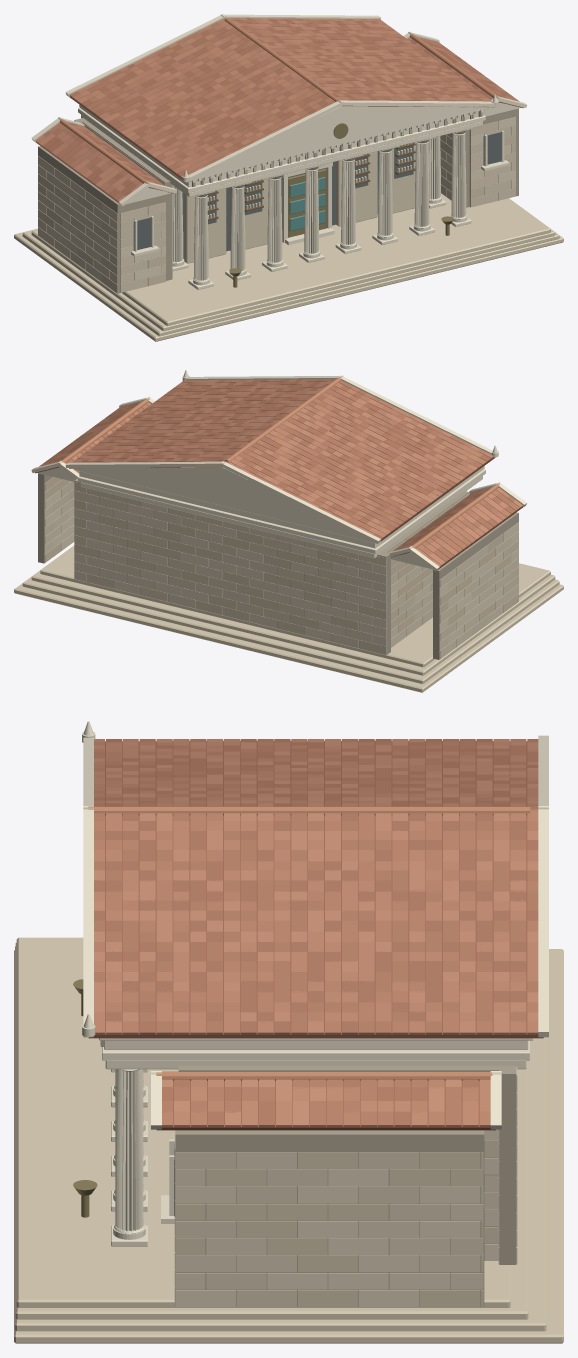
Rendered from library.glb.
The picture shows the model from 3 angles, top to bottom: view 1: azimuth 30°, elevation 25°; view 2: azimuth 150°, elevation 25°; view 3: azimuth 270°, elevation 25°; orthographic projection. The views are drawn at different scales.
Visible parts, largest first — view 1: AlexandrianScholarlyComplex_Interpretation / cream marble, AlexandrianScholarlyComplex_Interpretation / warm limestone, AlexandrianScholarlyComplex_Interpretation / roof tile 1, AlexandrianScholarlyComplex_Interpretation / roof tile 0, AlexandrianScholarlyComplex_Interpretation / roof tile 3, AlexandrianScholarlyComplex_Interpretation / roof tile 2, AlexandrianScholarlyComplex_Interpretation / roof tile 4, AlexandrianScholarlyComplex_Interpretation / stone shadow, AlexandrianScholarlyComplex_Interpretation / masonry 2, AlexandrianScholarlyComplex_Interpretation / masonry 1, AlexandrianScholarlyComplex_Interpretation / masonry 3, AlexandrianScholarlyComplex_Interpretation / recess (+8 smaller); view 2: AlexandrianScholarlyComplex_Interpretation / warm limestone, AlexandrianScholarlyComplex_Interpretation / cream marble, AlexandrianScholarlyComplex_Interpretation / masonry 2, AlexandrianScholarlyComplex_Interpretation / masonry 0, AlexandrianScholarlyComplex_Interpretation / masonry 3, AlexandrianScholarlyComplex_Interpretation / roof tile 1, AlexandrianScholarlyComplex_Interpretation / roof tile 0, AlexandrianScholarlyComplex_Interpretation / roof tile 3, AlexandrianScholarlyComplex_Interpretation / roof tile 2, AlexandrianScholarlyComplex_Interpretation / roof tile 4, AlexandrianScholarlyComplex_Interpretation / masonry 1, AlexandrianScholarlyComplex_Interpretation / stone shadow (+2 smaller); view 3: AlexandrianScholarlyComplex_Interpretation / warm limestone, AlexandrianScholarlyComplex_Interpretation / roof tile 1, AlexandrianScholarlyComplex_Interpretation / roof tile 3, AlexandrianScholarlyComplex_Interpretation / roof tile 0, AlexandrianScholarlyComplex_Interpretation / roof tile 2, AlexandrianScholarlyComplex_Interpretation / cream marble, AlexandrianScholarlyComplex_Interpretation / roof tile 4, AlexandrianScholarlyComplex_Interpretation / stone shadow, AlexandrianScholarlyComplex_Interpretation / roof base, AlexandrianScholarlyComplex_Interpretation / masonry 0, AlexandrianScholarlyComplex_Interpretation / masonry 3, AlexandrianScholarlyComplex_Interpretation / masonry 1 (+2 smaller).
Boxes of the visible parts, bbox=[...] form: AlexandrianScholarlyComplex_Interpretation / cream marble: bbox=[31, 14, 527, 289]; AlexandrianScholarlyComplex_Interpretation / warm limestone: bbox=[14, 142, 563, 341]; AlexandrianScholarlyComplex_Interpretation / roof tile 1: bbox=[43, 18, 508, 200]; AlexandrianScholarlyComplex_Interpretation / roof tile 0: bbox=[43, 18, 510, 197]; AlexandrianScholarlyComplex_Interpretation / roof tile 3: bbox=[48, 18, 519, 191]; AlexandrianScholarlyComplex_Interpretation / roof tile 2: bbox=[59, 18, 515, 194]; AlexandrianScholarlyComplex_Interpretation / roof tile 4: bbox=[35, 18, 512, 201]; AlexandrianScholarlyComplex_Interpretation / stone shadow: bbox=[38, 102, 518, 293]; AlexandrianScholarlyComplex_Interpretation / masonry 2: bbox=[38, 136, 511, 284]; AlexandrianScholarlyComplex_Interpretation / masonry 1: bbox=[38, 121, 515, 292]; AlexandrianScholarlyComplex_Interpretation / masonry 3: bbox=[38, 117, 515, 280]; AlexandrianScholarlyComplex_Interpretation / recess: bbox=[133, 132, 501, 258]; AlexandrianScholarlyComplex_Interpretation / warm limestone: bbox=[14, 545, 563, 692]; AlexandrianScholarlyComplex_Interpretation / cream marble: bbox=[31, 370, 526, 571]; AlexandrianScholarlyComplex_Interpretation / masonry 2: bbox=[44, 490, 518, 658]; AlexandrianScholarlyComplex_Interpretation / masonry 0: bbox=[44, 477, 518, 654]; AlexandrianScholarlyComplex_Interpretation / masonry 3: bbox=[45, 480, 518, 644]; AlexandrianScholarlyComplex_Interpretation / roof tile 1: bbox=[43, 379, 519, 561]; AlexandrianScholarlyComplex_Interpretation / roof tile 0: bbox=[56, 379, 515, 562]; AlexandrianScholarlyComplex_Interpretation / roof tile 3: bbox=[39, 379, 509, 556]; AlexandrianScholarlyComplex_Interpretation / roof tile 2: bbox=[48, 379, 510, 550]; AlexandrianScholarlyComplex_Interpretation / roof tile 4: bbox=[55, 379, 522, 566]; AlexandrianScholarlyComplex_Interpretation / masonry 1: bbox=[44, 479, 518, 659]; AlexandrianScholarlyComplex_Interpretation / stone shadow: bbox=[38, 467, 518, 659]; AlexandrianScholarlyComplex_Interpretation / warm limestone: bbox=[14, 937, 563, 1343]; AlexandrianScholarlyComplex_Interpretation / roof tile 1: bbox=[94, 739, 538, 1126]; AlexandrianScholarlyComplex_Interpretation / roof tile 3: bbox=[94, 739, 538, 1126]; AlexandrianScholarlyComplex_Interpretation / roof tile 0: bbox=[94, 739, 538, 1126]; AlexandrianScholarlyComplex_Interpretation / roof tile 2: bbox=[94, 742, 538, 1126]; AlexandrianScholarlyComplex_Interpretation / cream marble: bbox=[82, 721, 548, 1246]; AlexandrianScholarlyComplex_Interpretation / roof tile 4: bbox=[94, 739, 538, 1126]; AlexandrianScholarlyComplex_Interpretation / stone shadow: bbox=[100, 1040, 516, 1306]; AlexandrianScholarlyComplex_Interpretation / roof base: bbox=[88, 741, 543, 1130]; AlexandrianScholarlyComplex_Interpretation / masonry 0: bbox=[174, 1067, 517, 1306]; AlexandrianScholarlyComplex_Interpretation / masonry 3: bbox=[174, 1129, 498, 1306]; AlexandrianScholarlyComplex_Interpretation / masonry 1: bbox=[174, 1130, 517, 1306].
Size of the model in its own units: 27 by 11.18 by 16.2.
